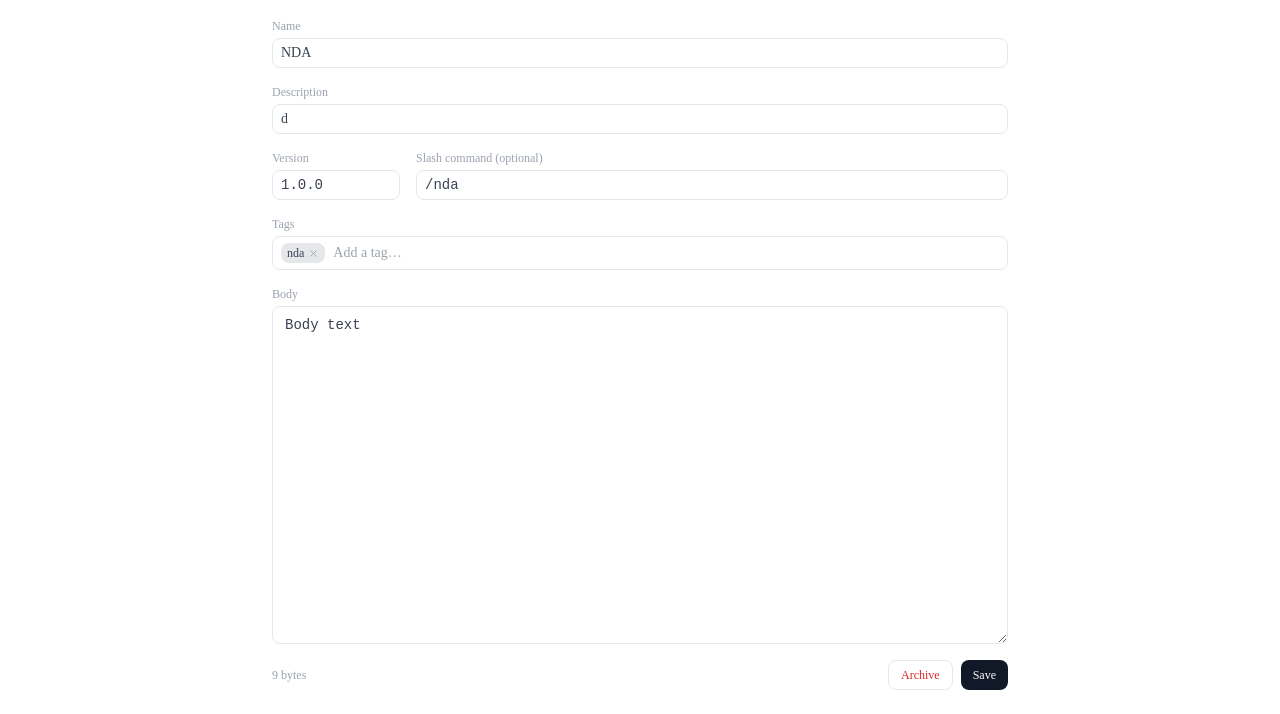
Test case: /skills/[id] page › opens an archive confirm dialog with a ?/archive form
The image size is (1280, 714).
(page scrolled)
Step 1. Click the button "Archive" → [920, 675], box [888,660,953,690]
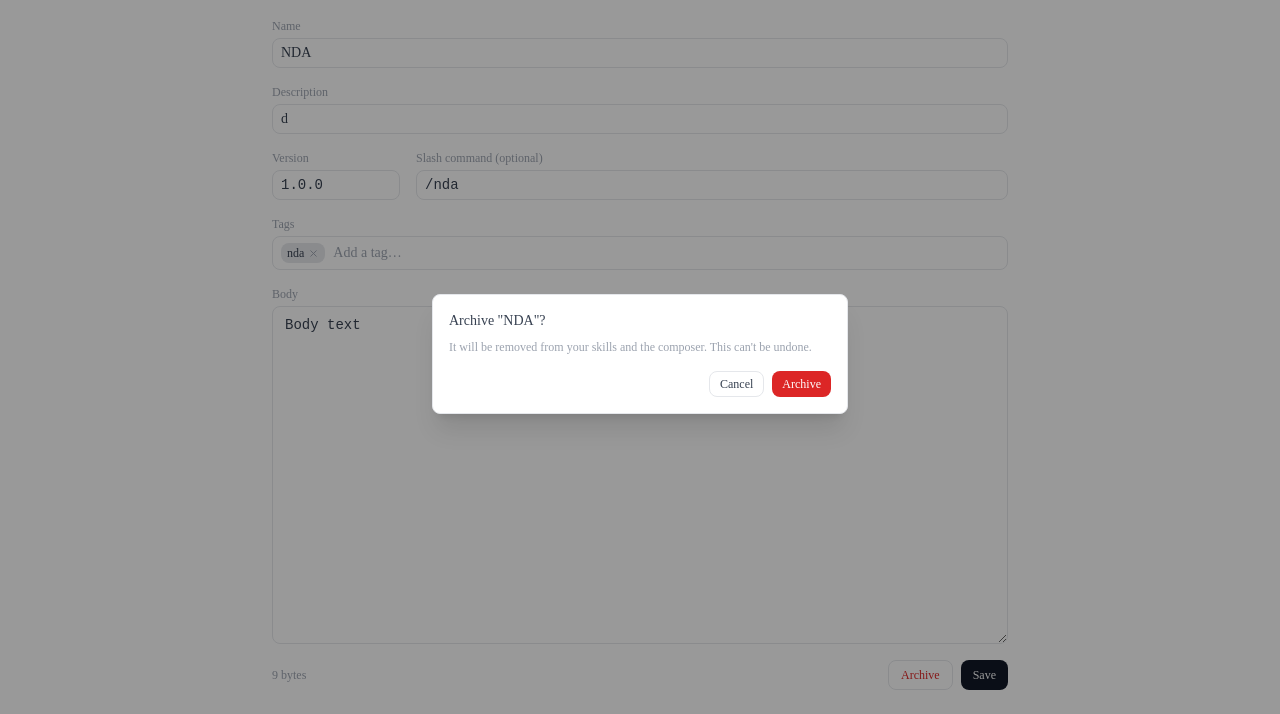
Result: the form is shown at [709,371,831,397]
